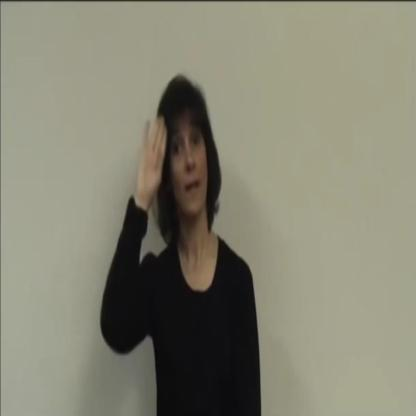Hello: (102, 61, 230, 259)
